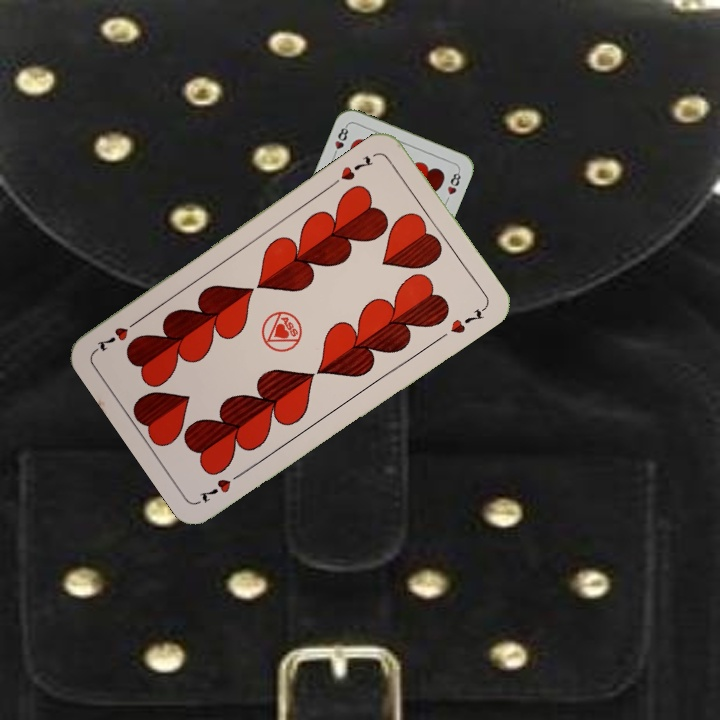H7: (195, 467, 248, 506), (336, 151, 376, 184)
H8: (329, 121, 351, 160)
